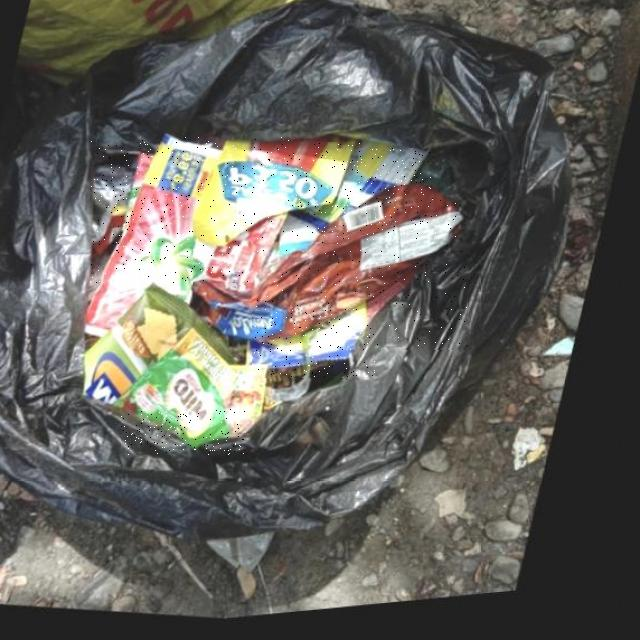wrapper: (194, 195, 468, 350), (90, 138, 295, 341), (88, 285, 252, 409), (197, 143, 360, 252), (122, 331, 245, 455), (295, 148, 433, 237), (253, 310, 375, 378)
